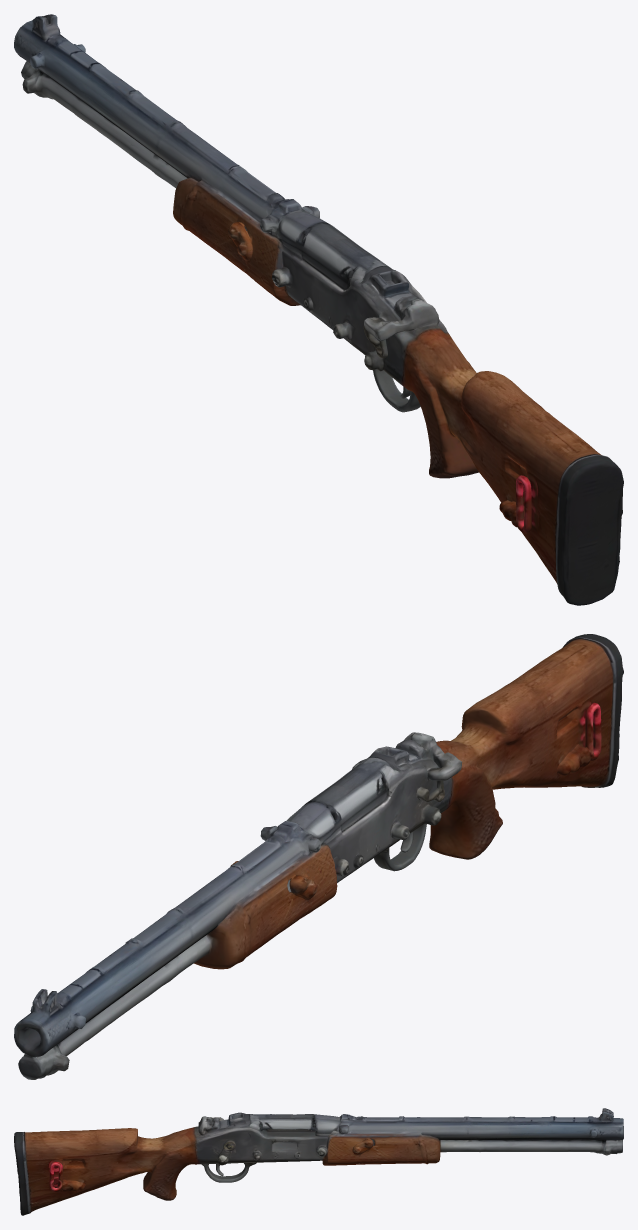
Rendered from tripo_shotgun.glb.
3 views of the same model, one above another, from view 1: azimuth 30°, elevation 25°; view 2: azimuth 150°, elevation 25°; view 3: azimuth 270°, elevation 25° (orthographic). The views are drawn at different scales.
Visible parts, largest first — view 1: Body; view 2: Body; view 3: Body.
Part boxes in pixels (x1,y1,x2,y2): Body: (14,14,623,605); Body: (14,634,623,1079); Body: (14,1108,623,1215).
Bounding box in the file's own units: 0.1121 × 0.2523 × 1.35.
Materials: 1 (1 with a texture image).
